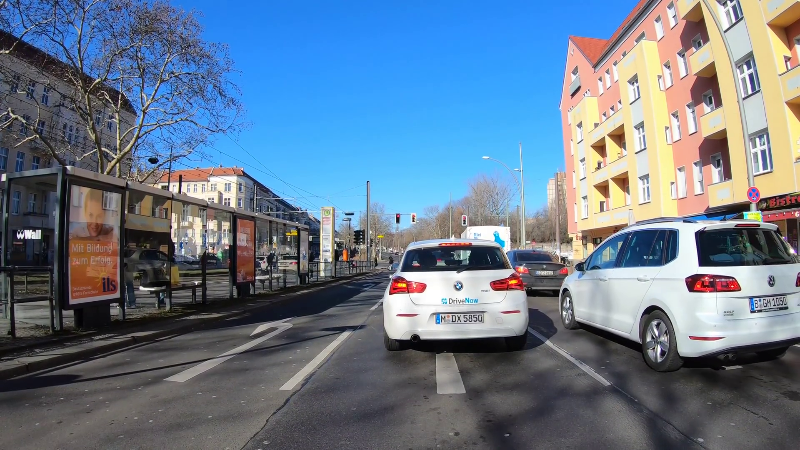Plate: (746, 294, 789, 312), (435, 311, 486, 325)
